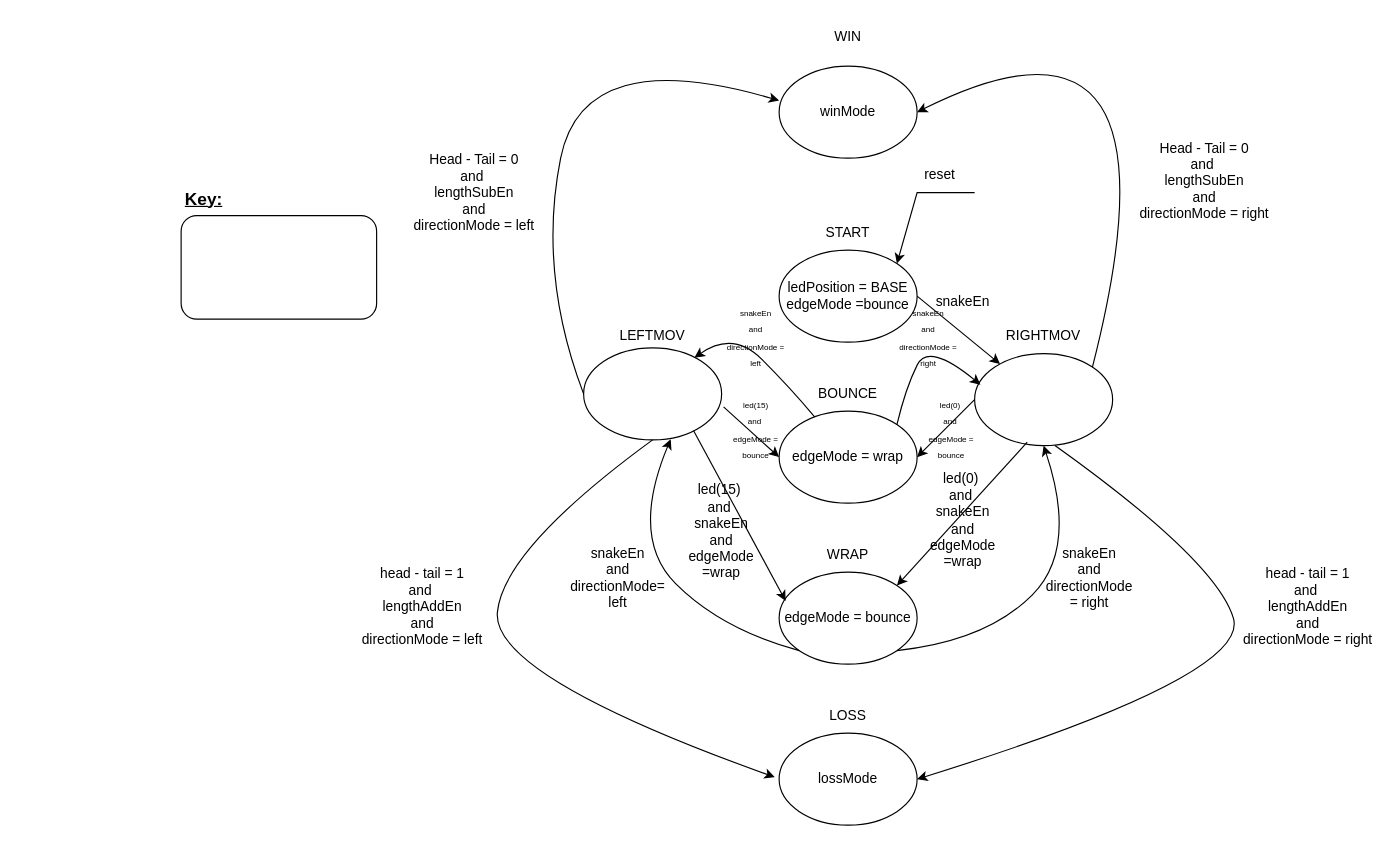
Some shapes in this 1396 by 845 pixel diagram are drawn without their labels. The shapes that lost their labels are listed below. From the top down, each one's box as (x1, y1, x2, y2) in pixels, then its label:
(180, 214, 377, 319): Base = "0000111111110000" bounce ='1' right ='1' wrap = '0' left = '0'
(582, 347, 722, 440): directionMode=left
(973, 352, 1113, 446): directionMode= right
